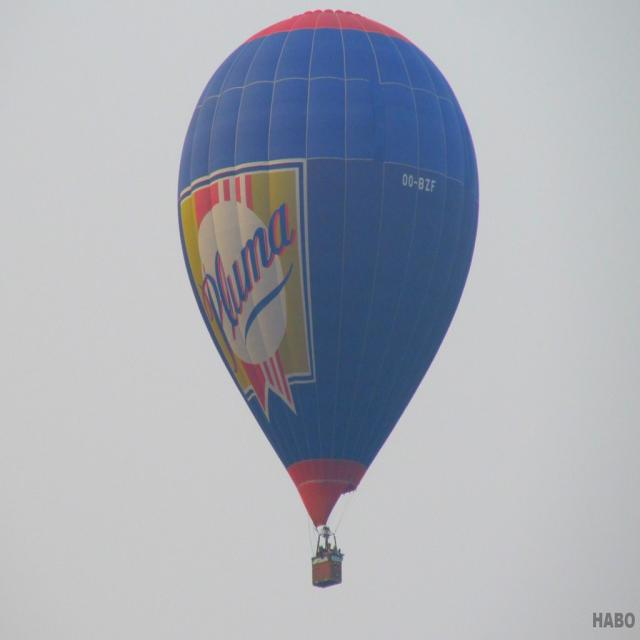balloon: (177, 9, 481, 589)
